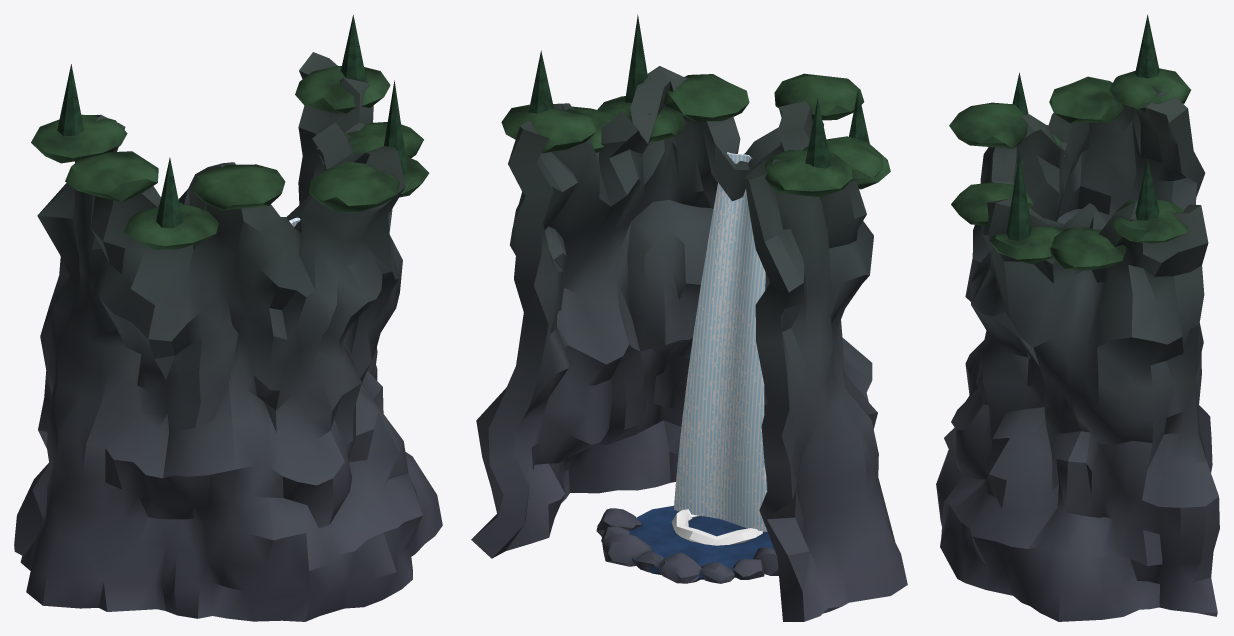
Rendered from waterfall.fbx.
3 views of the same model, side by side, from view 1: azimuth 30°, elevation 25°; view 2: azimuth 150°, elevation 25°; view 3: azimuth 270°, elevation 25° (orthographic). The views are drawn at different scales.
Parts seen in each view (by area): view 1: waterfall; view 2: waterfall, waterfall_glow; view 3: waterfall.
Part boxes in pixels (left/top/right/bottom): waterfall: left=14, top=15, right=442, bottom=621; waterfall: left=471, top=14, right=907, bottom=621; waterfall_glow: left=674, top=152, right=767, bottom=531; waterfall: left=936, top=14, right=1219, bottom=621.
Bounding box in the file's own units: 7704 × 9878 × 5390.
1 material, 1 textured.
